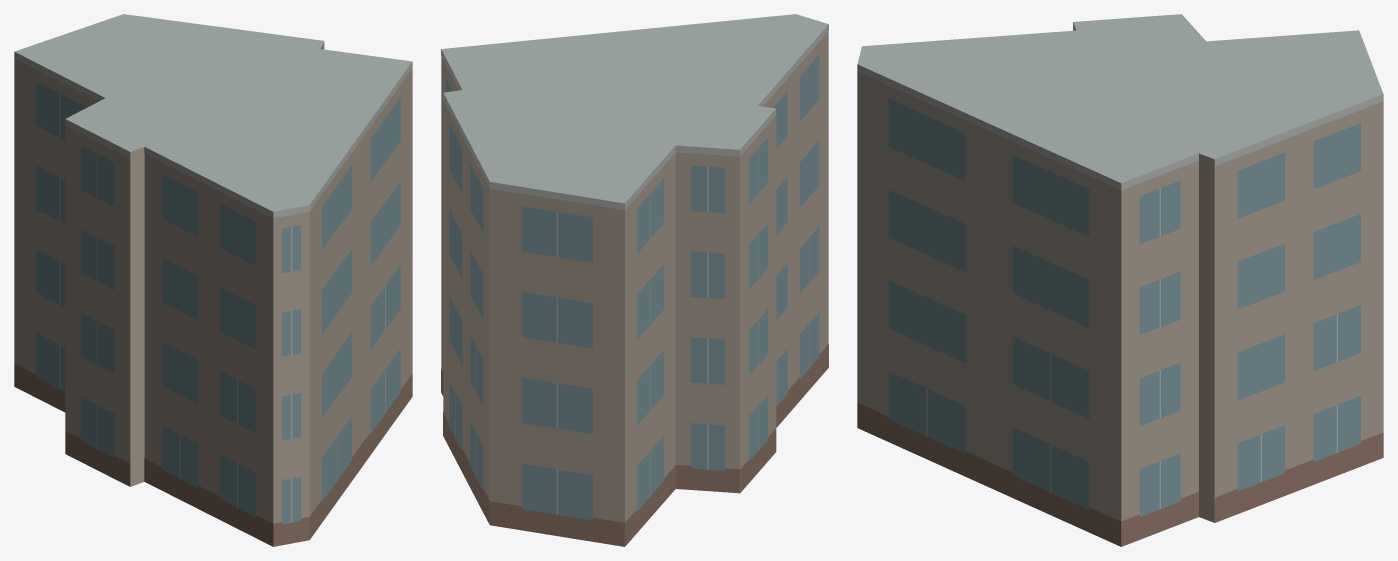
File: survey-upis-32487538.glb
The picture shows the model from 3 angles, left to right: view 1: azimuth 30°, elevation 25°; view 2: azimuth 150°, elevation 25°; view 3: azimuth 270°, elevation 25°; orthographic projection. The views are drawn at different scales.
Parts seen in each view (by area): view 1: survey-upis-32487538.tmp; view 2: survey-upis-32487538.tmp; view 3: survey-upis-32487538.tmp.
Part boxes in pixels (<box>): survey-upis-32487538.tmp: <box>14,14,412,546</box>; survey-upis-32487538.tmp: <box>441,14,828,546</box>; survey-upis-32487538.tmp: <box>857,14,1383,546</box>.
Size of the model in its own units: 12.38 by 12.4 by 16.27.
